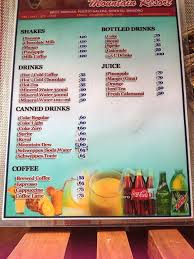coke: (120, 169, 159, 218)
